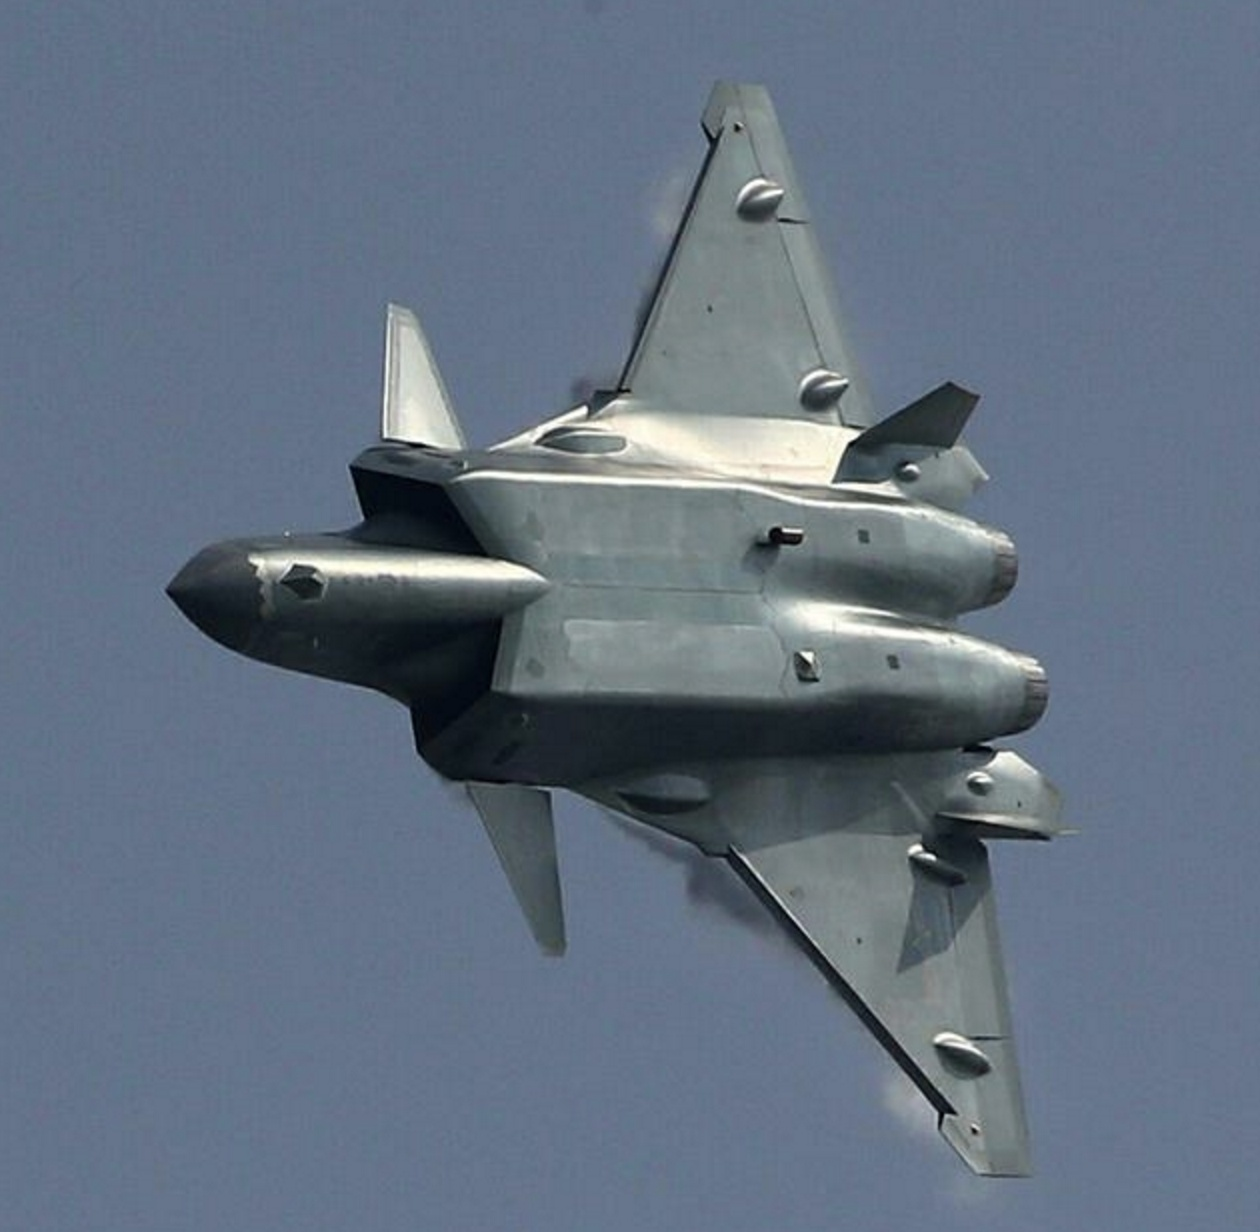J20: (164, 79, 1078, 1179)
